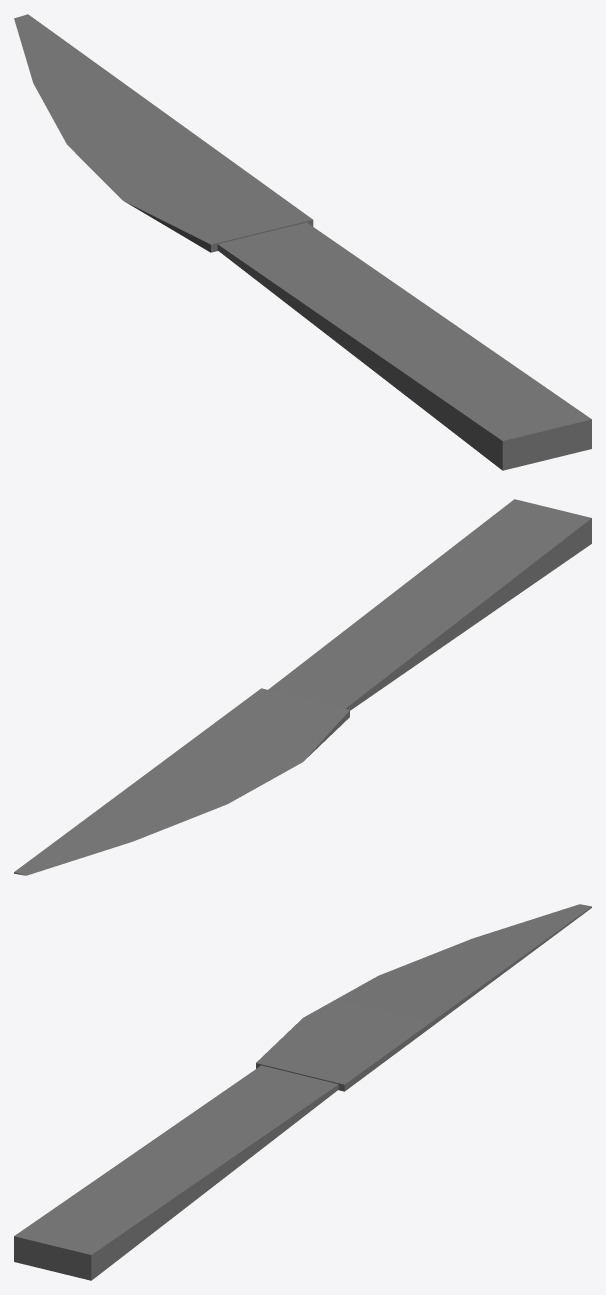
The model's file is Itr_Obj_Knife_03.FBX.
The picture shows the model from 3 angles, top to bottom: view 1: azimuth 30°, elevation 25°; view 2: azimuth 150°, elevation 25°; view 3: azimuth 330°, elevation 25°; orthographic projection. The views are drawn at different scales.
Parts seen in each view (by area): view 1: Itr_Obj_Knife_03; view 2: Itr_Obj_Knife_03; view 3: Itr_Obj_Knife_03.
Boxes of the visible parts, x1,y1,x2,y2 form: Itr_Obj_Knife_03: [14, 14, 591, 470]; Itr_Obj_Knife_03: [14, 499, 591, 875]; Itr_Obj_Knife_03: [14, 904, 591, 1280].
Size of the model in its own units: 0.5827 by 0.1387 by 4.84.
